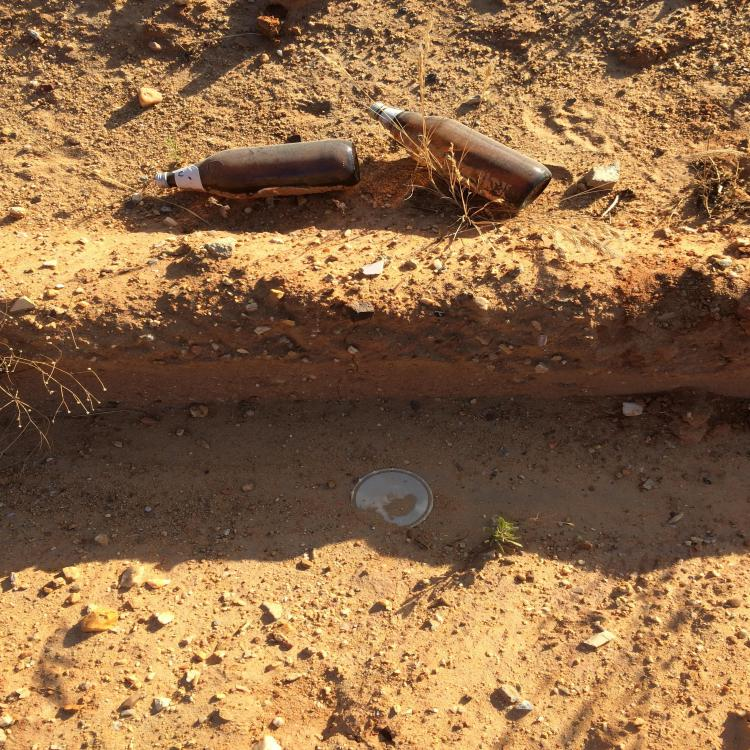Glass bottle: (367, 102, 552, 210), (156, 138, 361, 200)
Metal bottle cap: (366, 102, 384, 119), (156, 172, 166, 189)
Plastic lid: (351, 468, 433, 528)
